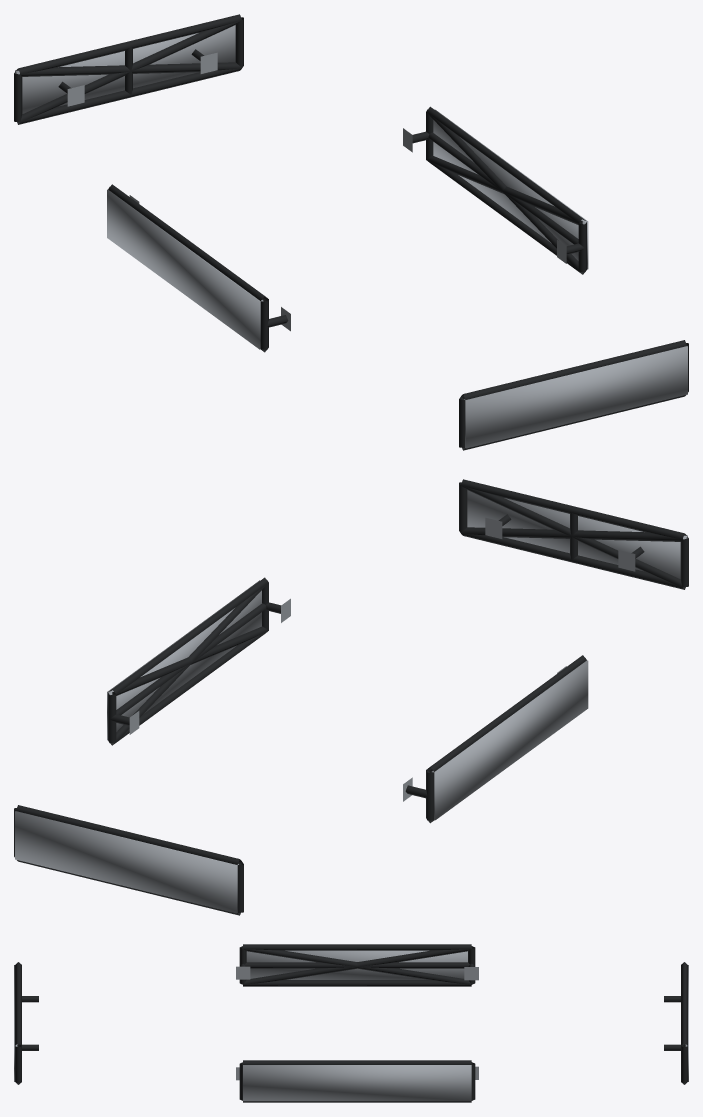
File: kanaya_fortim_protecao.glb
3 views of the same model, one above another, from view 1: azimuth 30°, elevation 25°; view 2: azimuth 150°, elevation 25°; view 3: azimuth 270°, elevation 25° (orthographic). The views are drawn at different scales.
Parts seen in each view (by area): view 1: Protection_front_Level3_Details, Protection_left_Level3_Details, Protection_rear_Level1_Details, Protection_rear_Level3_Details, Protection_right_Level1_Details, Protection_rear_Level2_Details, Protection_right_Level2_Details, Protection_right_Level3_Details, Protection_front_Level1_Details, Protection_left_Level1_Details; view 2: Protection_rear_Level3_Details, Protection_left_Level3_Details, Protection_front_Level1_Details, Protection_front_Level3_Details, Protection_right_Level1_Details, Protection_front_Level2_Details, Protection_right_Level2_Details, Protection_right_Level3_Details, Protection_rear_Level1_Details, Protection_left_Level1_Details; view 3: Protection_right_Level3_Details, Protection_left_Level2_Details, Protection_left_Level1_Details, Protection_left_Level3_Details, Protection_right_Level1_Details, Protection_rear_Level1_Details, Protection_front_Level1_Details.
Part boxes in pixels (bbox=[...]): Protection_front_Level3_Details: bbox=[464, 346, 687, 448]; Protection_left_Level3_Details: bbox=[107, 189, 263, 349]; Protection_rear_Level1_Details: bbox=[14, 14, 243, 124]; Protection_rear_Level3_Details: bbox=[15, 25, 235, 113]; Protection_right_Level1_Details: bbox=[403, 106, 586, 274]; Protection_rear_Level2_Details: bbox=[16, 20, 241, 123]; Protection_right_Level2_Details: bbox=[426, 113, 585, 274]; Protection_right_Level3_Details: bbox=[433, 109, 588, 269]; Protection_front_Level1_Details: bbox=[459, 340, 688, 450]; Protection_left_Level1_Details: bbox=[108, 184, 290, 352]; Protection_rear_Level3_Details: bbox=[15, 811, 238, 913]; Protection_left_Level3_Details: bbox=[431, 660, 588, 820]; Protection_front_Level1_Details: bbox=[459, 479, 688, 589]; Protection_front_Level3_Details: bbox=[467, 490, 687, 578]; Protection_right_Level1_Details: bbox=[108, 577, 290, 745]; Protection_front_Level2_Details: bbox=[461, 485, 686, 588]; Protection_right_Level2_Details: bbox=[109, 583, 268, 745]; Protection_right_Level3_Details: bbox=[107, 580, 261, 740]; Protection_rear_Level1_Details: bbox=[14, 805, 243, 915]; Protection_left_Level1_Details: bbox=[403, 655, 586, 823]; Protection_right_Level3_Details: bbox=[243, 1065, 471, 1101]; Protection_left_Level2_Details: bbox=[242, 947, 471, 984]; Protection_left_Level1_Details: bbox=[236, 944, 478, 986]; Protection_left_Level3_Details: bbox=[246, 950, 467, 979]; Protection_right_Level1_Details: bbox=[236, 1060, 478, 1102]; Protection_rear_Level1_Details: bbox=[664, 962, 687, 1084]; Protection_front_Level1_Details: bbox=[15, 962, 38, 1084].
Size of the model in its own units: 2.15 by 0.354 by 5.11.
1 material, 1 textured.
